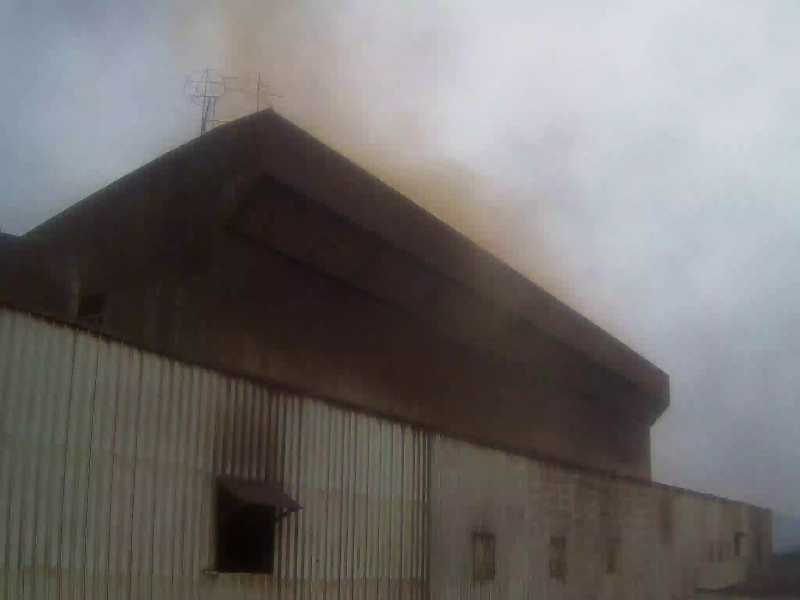Galpao: (1, 230, 673, 600)
Janela: (212, 475, 293, 580)
Pessimo: (331, 122, 377, 145), (306, 105, 352, 128), (286, 92, 332, 115), (365, 148, 413, 166), (401, 170, 436, 188), (436, 198, 470, 214), (458, 214, 492, 230), (481, 231, 515, 247), (421, 188, 461, 200)
